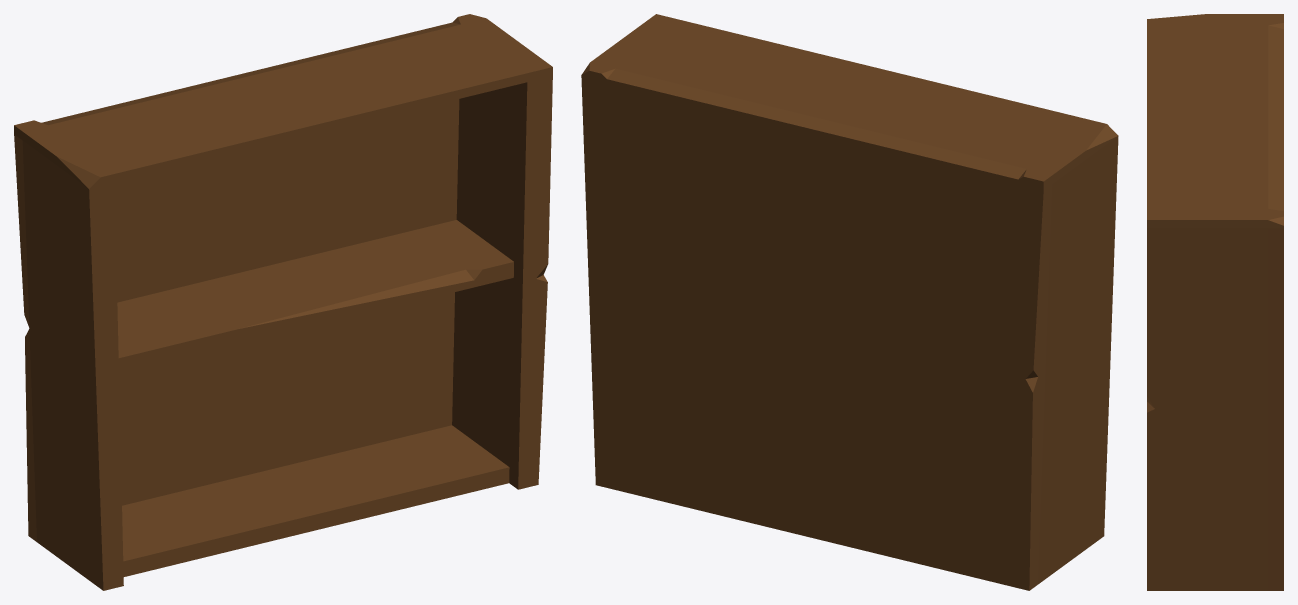
File: Shelf_2.fbx
3 renders of one model, left to right at view 1: azimuth 30°, elevation 25°; view 2: azimuth 150°, elevation 25°; view 3: azimuth 270°, elevation 25°, orthographic. The views are drawn at different scales.
Visible parts, largest first — view 1: Cube.025; view 2: Cube.025; view 3: Cube.025.
Boxes of the visible parts, left/top/right/bottom form: Cube.025: left=14, top=14, right=552, bottom=590; Cube.025: left=581, top=14, right=1118, bottom=590; Cube.025: left=1147, top=14, right=1283, bottom=590.
Bounding box in the file's own units: 122 × 104 × 34.17.
